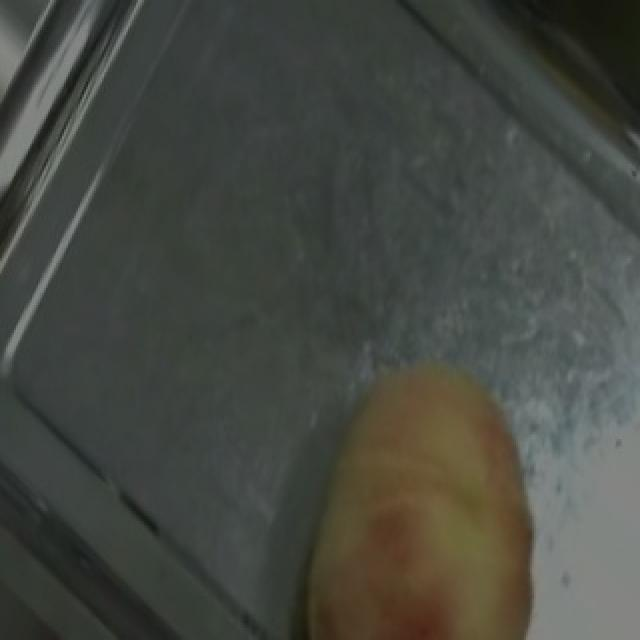Fruit: (264, 330, 576, 640)
